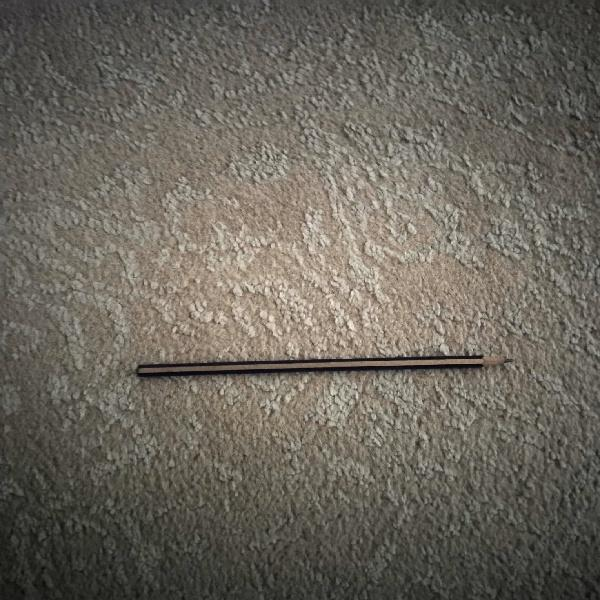pencil: (137, 355, 511, 376)
